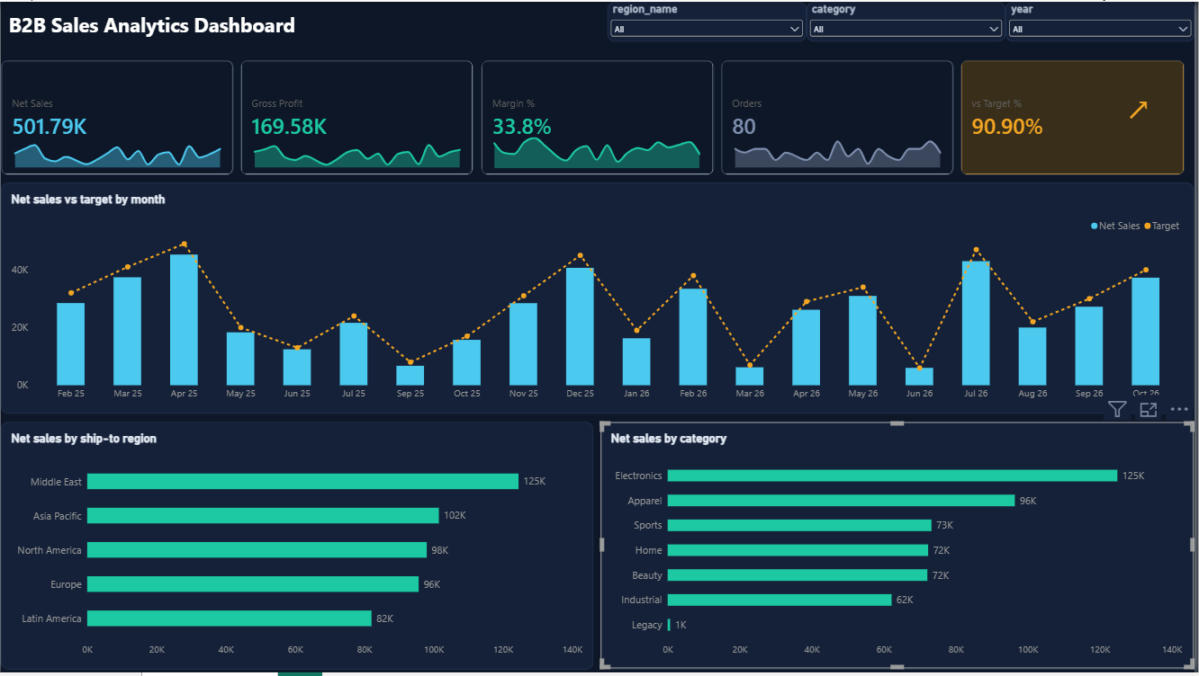

The page's visual inventory and layout, read from the dashboard file:
{"tool":"powerbi","page":{"name":"Sales overview","canvas":[1920,1080],"ordinal":0},"visuals":[{"type":"cardVisual","fields":{"Data":["measures_.Net Sales"]},"box":[0,95,374,185],"z":3},{"type":"cardVisual","fields":{"Data":["measures_.Gross Profit"]},"box":[386,95,374,185],"z":4},{"type":"cardVisual","fields":{"Data":["measures_.Margin %"]},"box":[772,95,374,185],"z":5},{"type":"cardVisual","fields":{"Data":["measures_.Orders"]},"box":[1158,95,374,185],"z":6},{"type":"cardVisual","fields":{"Data":["measures_.vs Target %"]},"box":[1544,95,360,185],"z":7},{"type":"lineClusteredColumnComboChart","title":"Net sales vs target by month","fields":{"Category":["dim_date.month_label"],"Y":["measures_.Net Sales"],"Y2":["measures_.Target"]},"box":[0,292,1918,372],"z":8},{"type":"clusteredBarChart","title":"Net sales by ship-to region","fields":{"Category":["dim_geography.region_name"],"Y":["measures_.Net Sales"]},"box":[0,676,953,398],"z":9},{"type":"clusteredBarChart","title":"Net sales by category","fields":{"Category":["dim_product.category"],"Y":["measures_.Net Sales"]},"box":[965,676,953,398],"z":10},{"type":"slicer","fields":{"Values":["dim_date.year"]},"box":[1616,0,304,64],"z":11},{"type":"slicer","fields":{"Values":["dim_geography.region_name"]},"box":[976,0,320,64],"z":12},{"type":"slicer","fields":{"Values":["dim_product.category"]},"box":[1296,0,320,64],"z":13},{"type":"textbox","box":[12,15,800,70],"z":14},{"type":"areaChart","fields":{"Category":["dim_date.month_start"],"Y":["measures_.Gross Profit"]},"box":[398,210,350,58],"z":15},{"type":"areaChart","fields":{"Category":["dim_date.month_start"],"Y":["measures_.Margin %"]},"box":[784,210,350,58],"z":16},{"type":"areaChart","fields":{"Category":["dim_date.month_start"],"Y":["measures_.Orders"]},"box":[1170,210,350,58],"z":17},{"type":"areaChart","fields":{"Category":["dim_date.month_start"],"Y":["measures_.Net Sales"]},"box":[12,210,350,58],"z":18},{"type":"textbox","box":[1810,132,90,110],"z":19}]}

Visuals, with their boxes in screenshot pixels (x1, y1, x2, y2), scaled from the page's 1920x1080 canvas onto the 1199x676 screenshot:
cardVisual - measures_.Net Sales: 0, 59, 234, 175
cardVisual - measures_.Gross Profit: 241, 59, 475, 175
cardVisual - measures_.Margin %: 482, 59, 716, 175
cardVisual - measures_.Orders: 723, 59, 957, 175
cardVisual - measures_.vs Target %: 964, 59, 1189, 175
"Net sales vs target by month" lineClusteredColumnComboChart: 0, 183, 1198, 416
"Net sales by ship-to region" clusteredBarChart: 0, 423, 595, 672
"Net sales by category" clusteredBarChart: 603, 423, 1198, 672
slicer - dim_date.year: 1009, 0, 1198, 40
slicer - dim_geography.region_name: 609, 0, 809, 40
slicer - dim_product.category: 809, 0, 1009, 40
textbox: 7, 9, 507, 53
areaChart - dim_date.month_start x measures_.Gross Profit: 249, 131, 467, 168
areaChart - dim_date.month_start x measures_.Margin %: 490, 131, 708, 168
areaChart - dim_date.month_start x measures_.Orders: 731, 131, 949, 168
areaChart - dim_date.month_start x measures_.Net Sales: 7, 131, 226, 168
textbox: 1130, 83, 1187, 151
